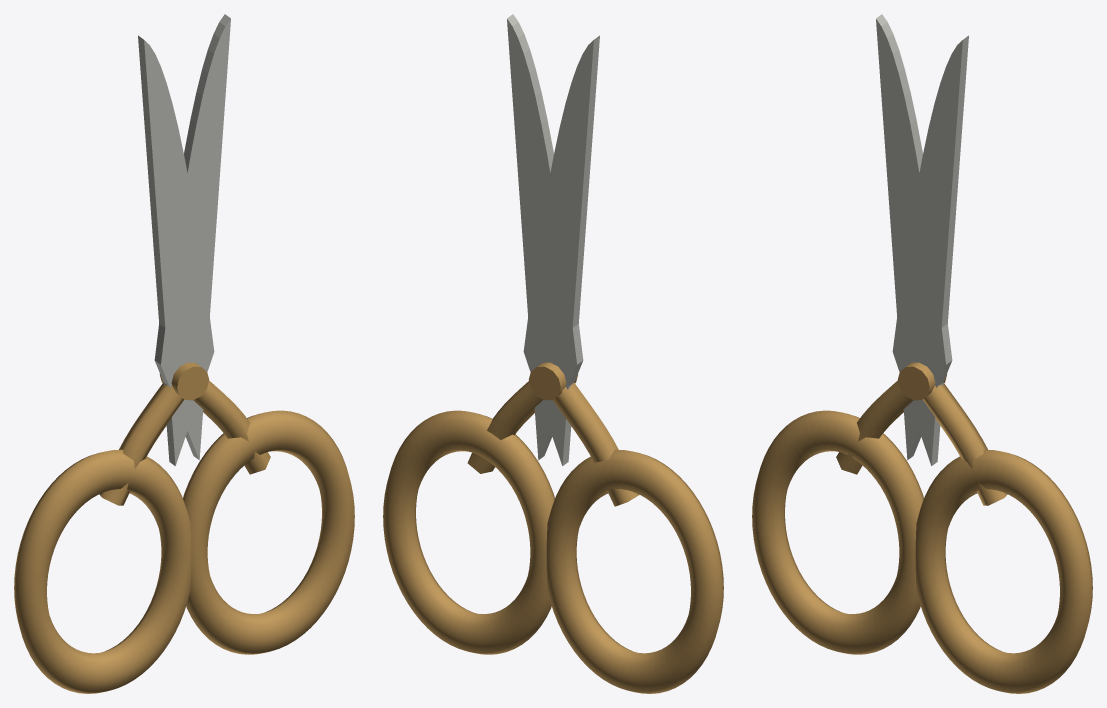
The model's file is dressmaking-scissors.glb.
3 renders of one model, left to right at view 1: azimuth 30°, elevation 25°; view 2: azimuth 150°, elevation 25°; view 3: azimuth 330°, elevation 25°, orthographic.
Visible parts, largest first — view 1: left-handle, right-handle, right-blade, left-blade, left-shank, right-shank, scissor-pivot; view 2: left-handle, right-handle, right-blade, left-blade, left-shank, right-shank, scissor-pivot; view 3: right-handle, left-handle, left-blade, right-blade, right-shank, left-shank, scissor-pivot.
Boxes of the visible parts, x1,y1,x2,y2 form: left-handle: (14, 449, 191, 693); right-handle: (183, 410, 354, 654); right-blade: (154, 14, 230, 460); left-blade: (138, 35, 214, 465); left-shank: (99, 382, 184, 505); right-shank: (193, 380, 270, 474); scissor-pivot: (159, 362, 209, 400); left-handle: (546, 449, 723, 693); right-handle: (383, 410, 554, 654); right-blade: (507, 14, 583, 460); left-blade: (523, 35, 599, 465); left-shank: (552, 382, 639, 506); right-shank: (467, 381, 543, 473); scissor-pivot: (528, 362, 578, 400); right-handle: (915, 449, 1092, 693); left-handle: (752, 410, 923, 654); left-blade: (876, 14, 952, 460); right-blade: (892, 35, 968, 465); right-shank: (922, 382, 1007, 505); left-shank: (836, 380, 913, 474); scissor-pivot: (897, 362, 947, 400).
Bounding box in the file's own units: 0.504 × 0.9216 × 0.045.
